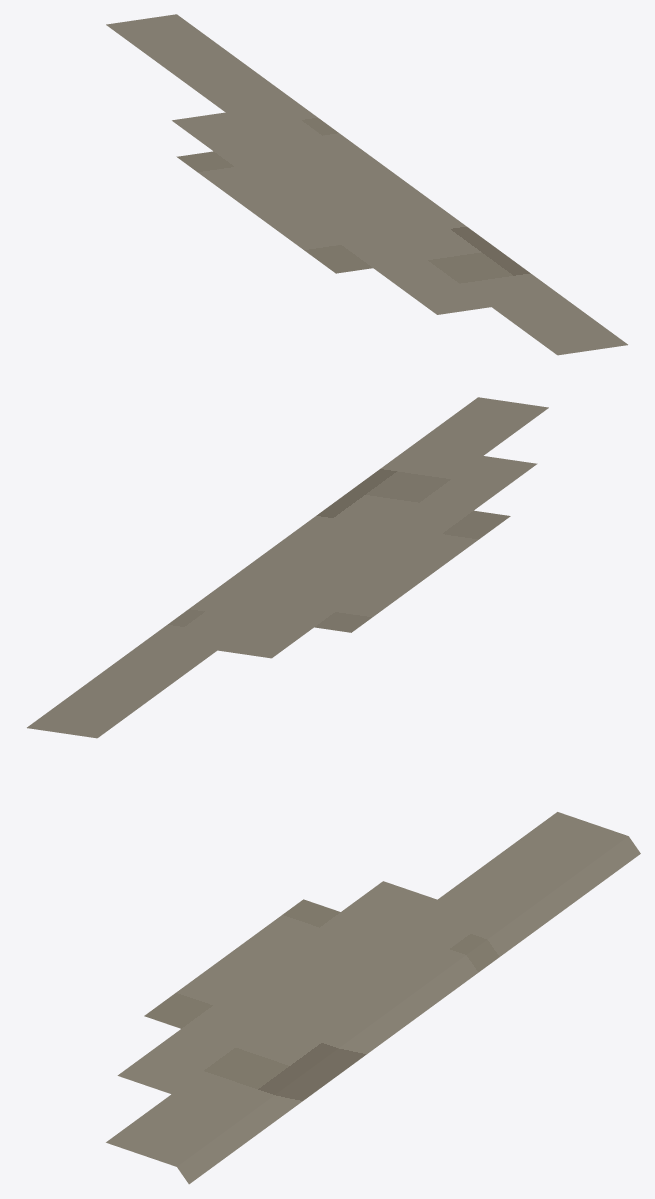
3 renders of one model, top to bottom at view 1: azimuth 30°, elevation 25°; view 2: azimuth 150°, elevation 25°; view 3: azimuth 330°, elevation 25°, orthographic.
Size of the model in its own units: 0.2236 by 0.0373 by 1.
1 material, 1 textured.
